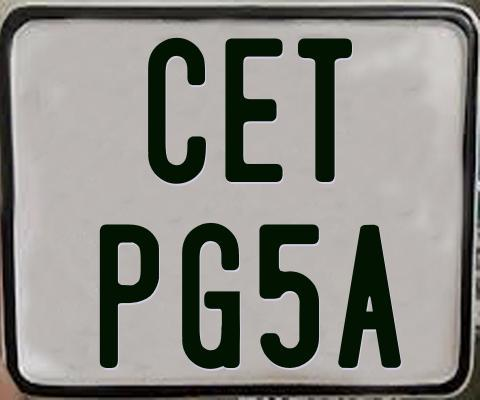5: (257, 224, 322, 374)
A: (336, 223, 405, 370)
C: (145, 35, 208, 185)
E: (225, 36, 285, 183)
G: (182, 222, 245, 374)
P: (99, 221, 162, 366)
T: (296, 37, 353, 184)
